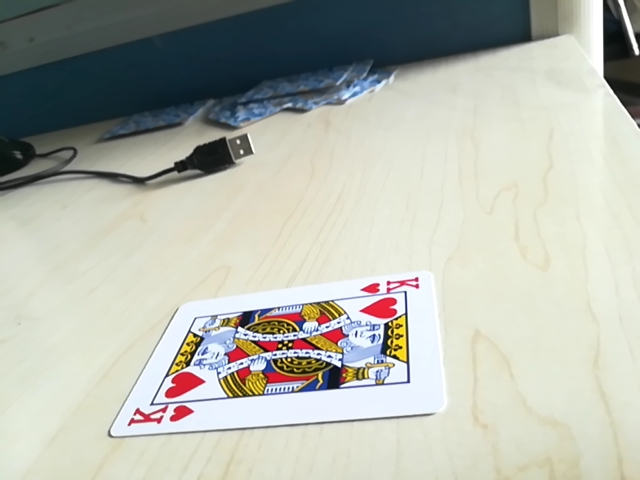hx k: (122, 402, 198, 431), (361, 274, 424, 297)
